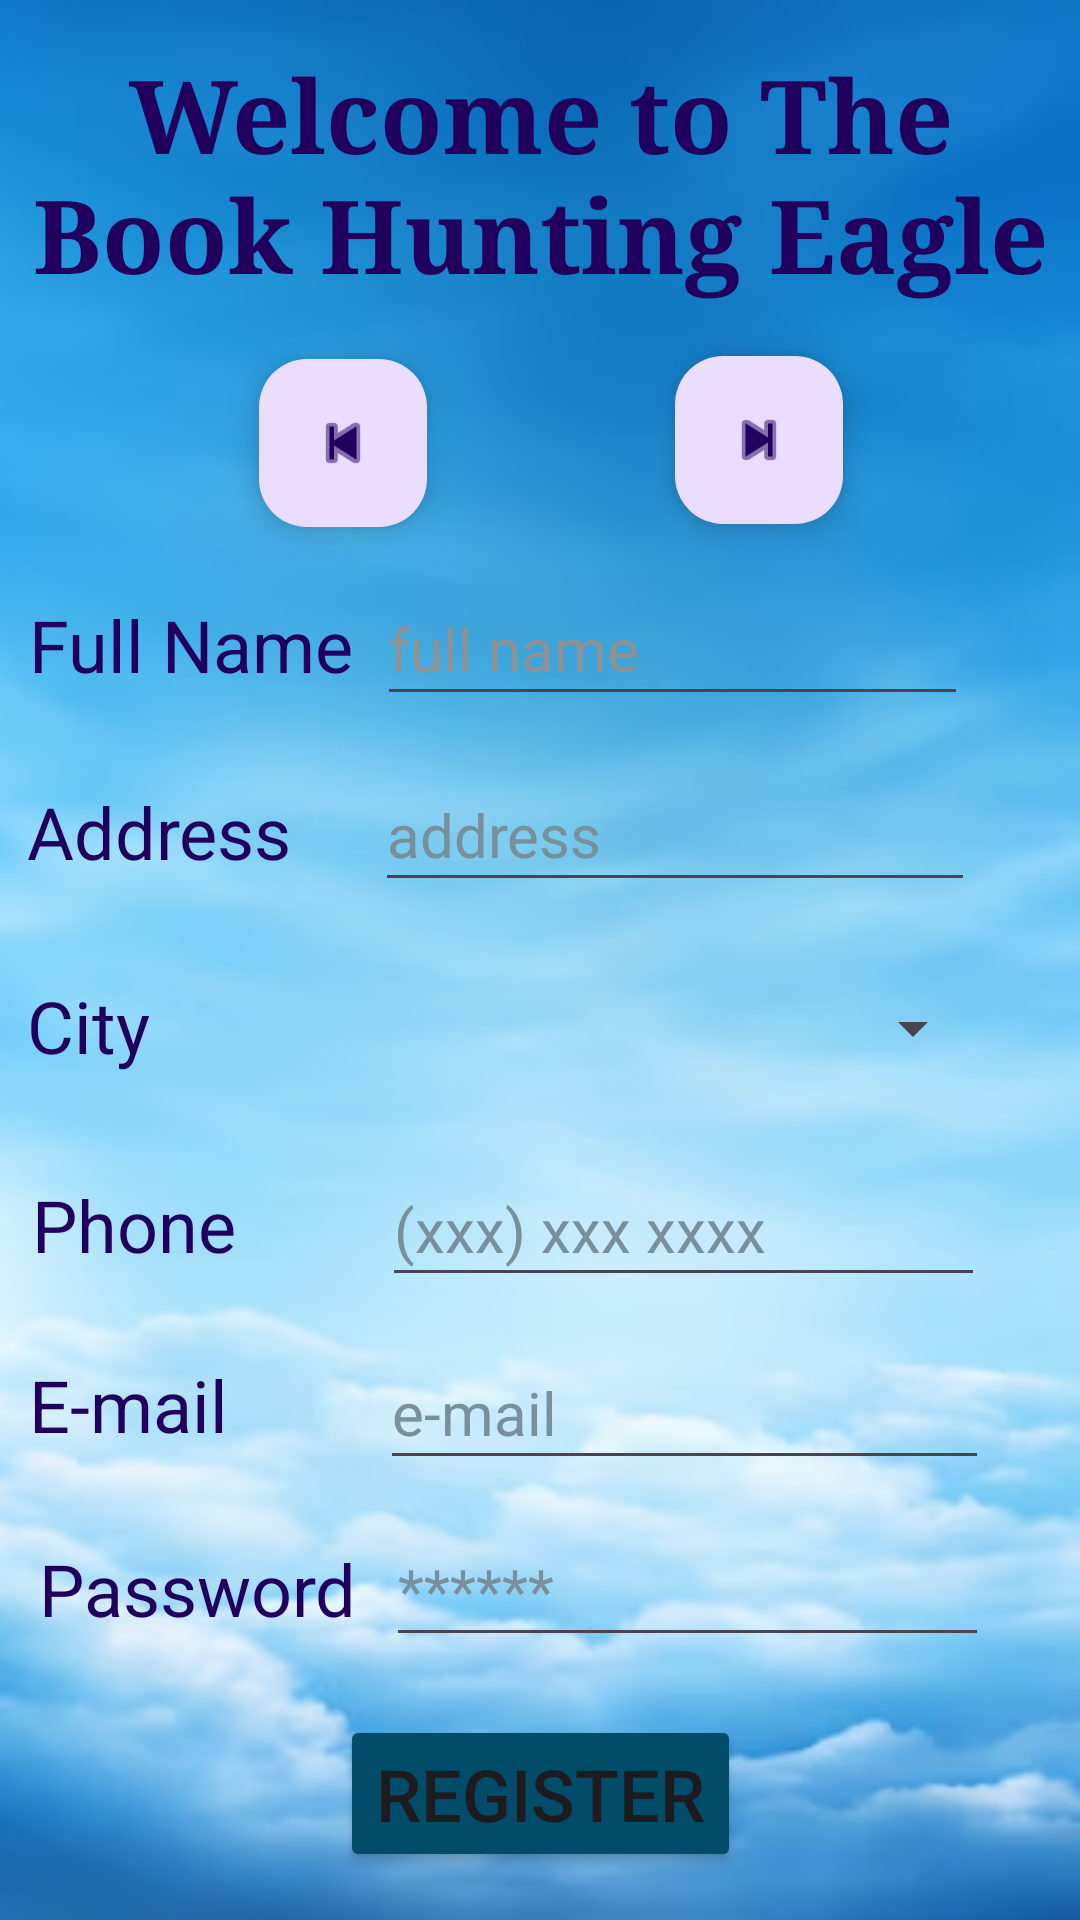

Where icons sit on this 1080*1920 app screen, as (x1, y1, x2, y2):
next: (675, 356, 843, 524)
previous: (259, 359, 427, 527)
